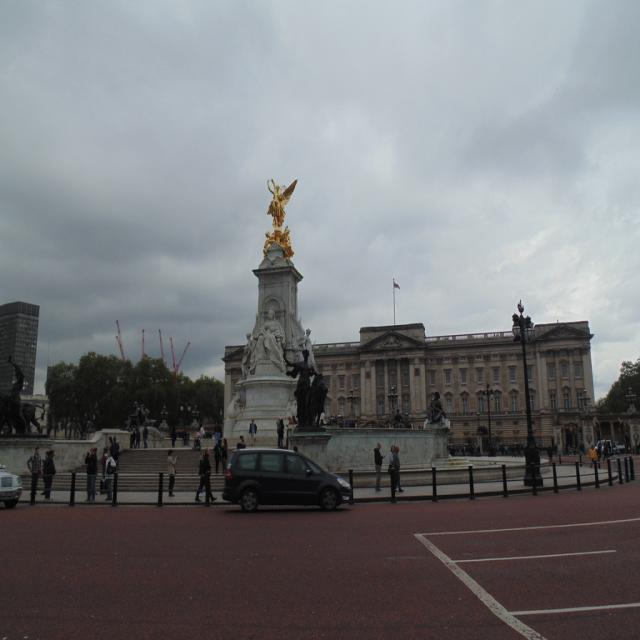car: (216, 440, 352, 512)
